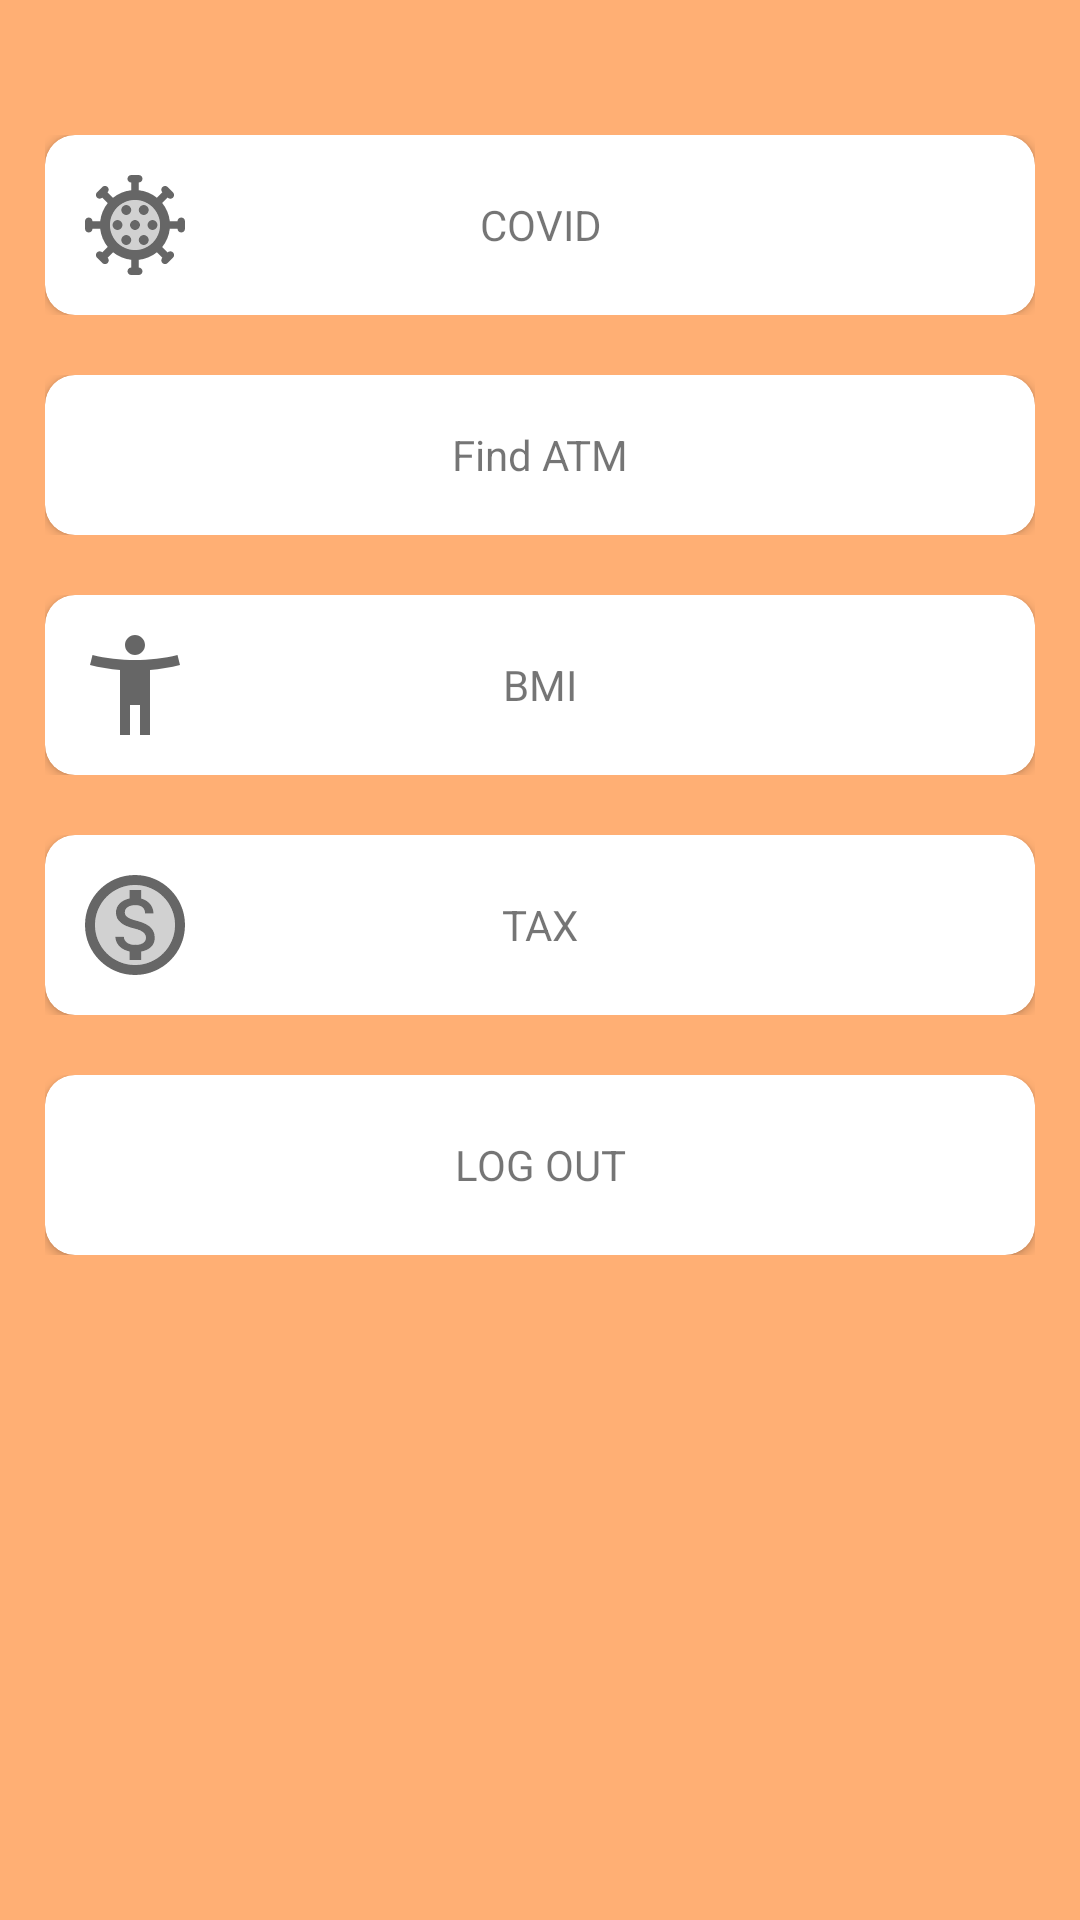

Point at icon controls on the screen. Image size 1080px x 1920px, points as (x=x, y=y).
accessibility: (x=135, y=685)
coronavirus: (x=135, y=225)
monetization on: (x=135, y=925)
